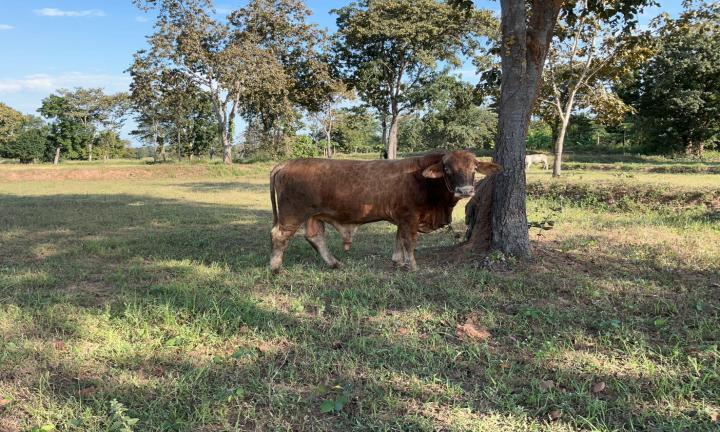Charolais: (271, 150, 502, 273)
